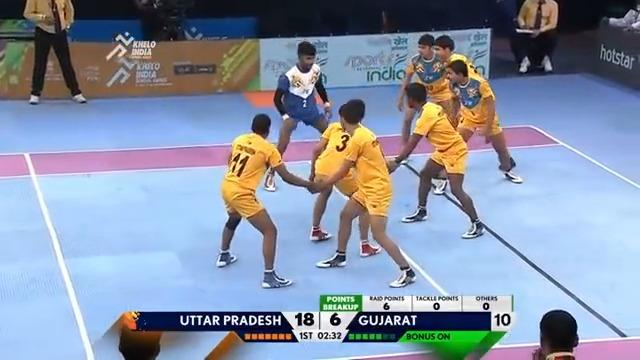Player: (308, 98, 416, 288), (215, 112, 319, 288), (386, 82, 485, 239), (431, 35, 523, 192), (396, 33, 460, 194), (22, 0, 87, 104), (532, 308, 579, 359)
Raider: (263, 40, 332, 191)
referee: (510, 0, 559, 73), (136, 0, 201, 41)
